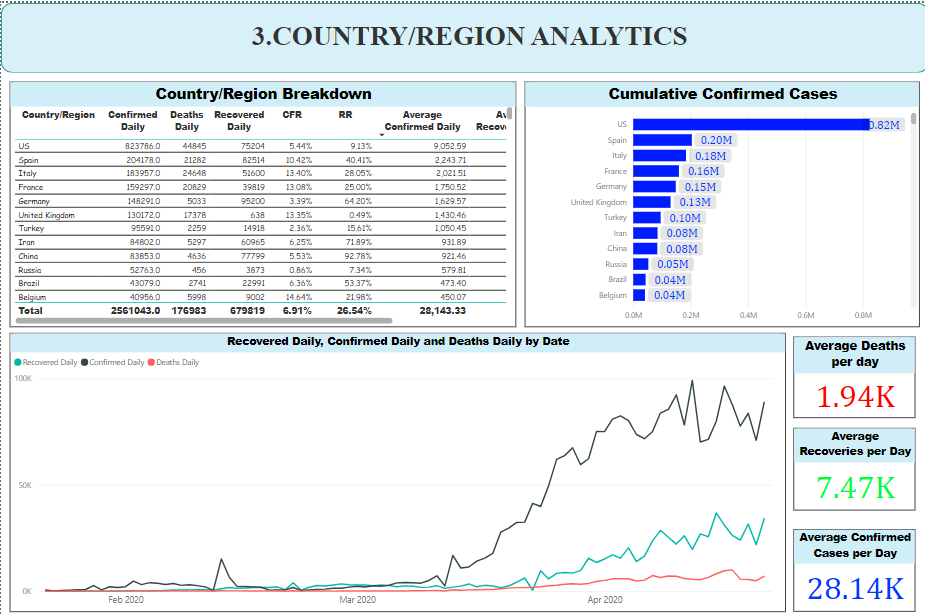

This screenshot's page, from the dashboard's own definition file:
{"tool":"powerbi","page":{"name":"Page 3","canvas":[1276,850],"ordinal":2},"visuals":[{"type":"tableEx","title":"Country/Region Breakdown","fields":{"Values":["CoronaVirus PowerBI Raw (2).Country/Region","Sum(CoronaVirus PowerBI Raw (2).Confirmed Daily)","Sum(CoronaVirus PowerBI Raw (2).Deaths Daily)","Sum(CoronaVirus PowerBI Raw (2).Recovered Daily)","CoronaVirus PowerBI Raw (2).CFR","CoronaVirus PowerBI Raw (2).RR","CoronaVirus PowerBI Raw (2).Average Confirmed Daily","CoronaVirus PowerBI Raw (2).Average Recoveries Daily","CoronaVirus PowerBI Raw (2).Average Deaths Daily"]},"box":[11.7,108.3,698.3,338.3],"z":0},{"type":"barChart","title":"Cumulative Confirmed Cases","fields":{"Category":["CoronaVirus PowerBI Raw (2).Country/Region"],"Y":["Sum(CoronaVirus PowerBI Raw (2).Confirmed Daily)"]},"box":[721.7,108.3,545,338.3],"z":1000},{"type":"lineChart","fields":{"Category":["CoronaVirus PowerBI Raw (2).Date"],"Y":["Sum(CoronaVirus PowerBI Raw (2).Recovered Daily)","Sum(CoronaVirus PowerBI Raw (2).Confirmed Daily)","Sum(CoronaVirus PowerBI Raw (2).Deaths Daily)"]},"box":[11.7,455,1070,385],"z":2000},{"type":"card","title":"Average Confirmed Cases per Day","fields":{"Values":["CoronaVirus PowerBI Raw (2).Average Confirmed Daily"]},"box":[1093.3,726.7,168.3,113.3],"z":3000},{"type":"card","title":"Average Recoveries per Day","fields":{"Values":["CoronaVirus PowerBI Raw (2).Average Recoveries Daily"]},"box":[1093.3,586.7,168.3,113.3],"z":4000},{"type":"card","title":"Average Deaths per day","fields":{"Values":["CoronaVirus PowerBI Raw (2).Average Deaths Daily"]},"box":[1093.3,460,168.3,111.7],"z":5000},{"type":"shape","box":[0,0,1280,96.2],"z":6000},{"type":"textbox","box":[1056,160,224,150],"z":7000},{"type":"textbox","box":[11.2,0,1268.8,96.2],"z":8000},{"type":"textbox","box":[100,100,300,300],"z":8001}]}

Visuals, with their boxes in screenshot pixels (x1, y1, x2, y2), scaled from the page's 1276x850 canvas onto the 925x616 screenshot:
"Country/Region Breakdown" tableEx: 8,78,515,324
"Cumulative Confirmed Cases" barChart: 523,78,918,324
lineChart - CoronaVirus PowerBI Raw (2).Date x Sum(CoronaVirus PowerBI Raw (2).Recovered Daily): 8,330,784,609
"Average Confirmed Cases per Day" card: 793,527,915,609
"Average Recoveries per Day" card: 793,425,915,507
"Average Deaths per day" card: 793,333,915,414
shape: 0,0,924,70
textbox: 766,116,924,225
textbox: 8,0,924,70
textbox: 72,72,290,290
